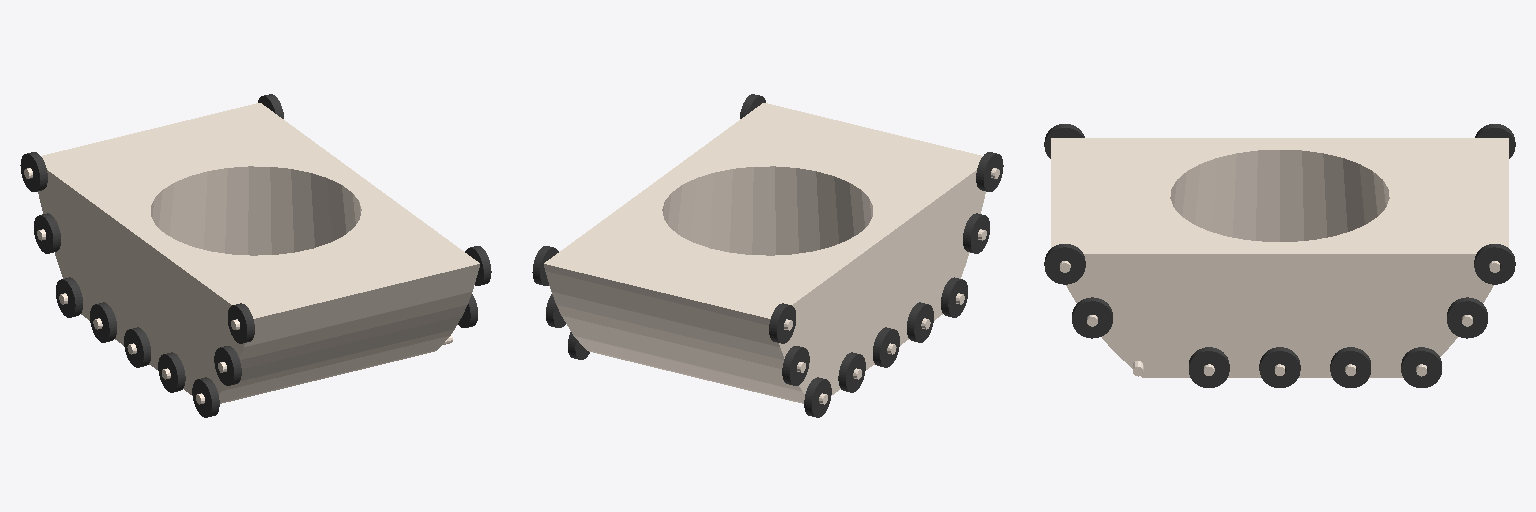
The robot description file, URDF, robot "taperon":
<?xml version="1.0" ?>
<!-- =================================================================================== -->
<!-- |    This document was autogenerated by xacro from [local-path]/taperon_ws/src/taperon_description/urdf/taperon.urdf.xacro | -->
<!-- |    EDITING THIS FILE BY HAND IS NOT RECOMMENDED                                 | -->
<!-- =================================================================================== -->
<!-- This URDF was automatically created by SolidWorks to URDF Exporter! Originally created by [author] ([email redacted]) 
     Commit Version: 1.6.0-4-g7f85cfe  Build Version: 1.6.7995.38578
     For more information, please see http://wiki.ros.org/sw_urdf_exporter -->
<robot name="taperon">
  <link name="base_link">
    <inertial>
      <origin rpy="0 0 0" xyz="0.0708427730604094 0.0120069913603685 -4.39514124916511E-18"/>
      <mass value="6.0"/>
      <inertia ixx="1.0971824669988" ixy="-6.72641588721367E-17" ixz="4.98158605125975E-17" iyy="1.45930594172483" iyz="-5.0258052230781E-16" izz="0.510073622144381"/>
    </inertial>
    <visual>
      <origin rpy="0 0 0" xyz="0 0 0"/>
      <geometry>
        <mesh filename="package://taperon_description/urdf/meshes/base_link.STL"/>
      </geometry>
      <material name="">
        <color rgba="1 0.949019607843137 0.898039215686275 1"/>
      </material>
    </visual>
    <collision>
      <origin rpy="0 0 0" xyz="0 0 0"/>
      <geometry>
        <mesh filename="package://taperon_description/urdf/meshes/base_link.STL"/>
      </geometry>
    </collision>
  </link>
  <link name="l1">
    <inertial>
      <origin rpy="0 0 0" xyz="-1.38777878078145E-16 -4.16333634234434E-17 -0.00499999999999998"/>
      <mass value="0.0145769899126567"/>
      <inertia ixx="2.12034465771185E-06" ixy="3.30872245021211E-24" ixz="1.61165209109768E-22" iyy="2.12034465771185E-06" iyz="5.2272633464336E-21" izz="3.99773948354609E-06"/>
    </inertial>
    <visual>
      <origin rpy="0 0 0" xyz="0 0 0"/>
      <geometry>
        <mesh filename="package://taperon_description/urdf/meshes/l1.STL"/>
      </geometry>
      <material name="">
        <color rgba="0.298039215686275 0.298039215686275 0.298039215686275 1"/>
      </material>
    </visual>
    <collision>
      <origin rpy="0 0 0" xyz="0 0 0"/>
      <geometry>
        <mesh filename="package://taperon_description/urdf/meshes/l1.STL"/>
      </geometry>
    </collision>
  </link>
  <joint name="jl1" type="continuous">
    <origin rpy="1.5708 -0.010065 -1.5708" xyz="0.22084 -0.235 0.065"/>
    <parent link="base_link"/>
    <child link="l1"/>
    <axis xyz="0 0 1"/>
  </joint>
  <link name="l2">
    <inertial>
      <origin rpy="0 0 0" xyz="-1.11022302462516E-16 -2.08166817117217E-17 -0.00499999999999998"/>
      <mass value="0.0145769899126567"/>
      <inertia ixx="2.12034465771185E-06" ixy="-4.96308367531817E-24" ixz="1.54539600381525E-22" iyy="2.12034465771185E-06" iyz="5.22648558026031E-21" izz="3.99773948354609E-06"/>
    </inertial>
    <visual>
      <origin rpy="0 0 0" xyz="0 0 0"/>
      <geometry>
        <mesh filename="package://taperon_description/urdf/meshes/l2.STL"/>
      </geometry>
      <material name="">
        <color rgba="0.298039215686275 0.298039215686275 0.298039215686275 1"/>
      </material>
    </visual>
    <collision>
      <origin rpy="0 0 0" xyz="0 0 0"/>
      <geometry>
        <mesh filename="package://taperon_description/urdf/meshes/l2.STL"/>
      </geometry>
    </collision>
  </link>
  <joint name="jl2" type="continuous">
    <origin rpy="1.5708 -0.010065 -1.5708" xyz="0.22084 -0.205 0"/>
    <parent link="base_link"/>
    <child link="l2"/>
    <axis xyz="0 0 1"/>
  </joint>
  <link name="l3">
    <inertial>
      <origin rpy="0 0 0" xyz="-2.77555756156289E-17 0 -0.00499999999999998"/>
      <mass value="0.0145769899126567"/>
      <inertia ixx="2.12034465771185E-06" ixy="-3.30872245021211E-24" ixz="9.27803307014988E-23" iyy="2.12034465771185E-06" iyz="5.22755551092004E-21" izz="3.99773948354609E-06"/>
    </inertial>
    <visual>
      <origin rpy="0 0 0" xyz="0 0 0"/>
      <geometry>
        <mesh filename="package://taperon_description/urdf/meshes/l3.STL"/>
      </geometry>
      <material name="">
        <color rgba="0.298039215686275 0.298039215686275 0.298039215686275 1"/>
      </material>
    </visual>
    <collision>
      <origin rpy="0 0 0" xyz="0 0 0"/>
      <geometry>
        <mesh filename="package://taperon_description/urdf/meshes/l3.STL"/>
      </geometry>
    </collision>
  </link>
  <joint name="jl3" type="continuous">
    <origin rpy="1.5708 -0.010065 -1.5708" xyz="0.22084 -0.155 -0.06"/>
    <parent link="base_link"/>
    <child link="l3"/>
    <axis xyz="0 0 1"/>
  </joint>
  <link name="l4">
    <inertial>
      <origin rpy="0 0 0" xyz="-2.77555756156289E-17 0 -0.00499999999999998"/>
      <mass value="0.0145769899126567"/>
      <inertia ixx="2.12034465771185E-06" ixy="-3.30872245021211E-24" ixz="9.27803307014988E-23" iyy="2.12034465771185E-06" iyz="5.22755551092004E-21" izz="3.99773948354609E-06"/>
    </inertial>
    <visual>
      <origin rpy="0 0 0" xyz="0 0 0"/>
      <geometry>
        <mesh filename="package://taperon_description/urdf/meshes/l4.STL"/>
      </geometry>
      <material name="">
        <color rgba="0.298039215686275 0.298039215686275 0.298039215686275 1"/>
      </material>
    </visual>
    <collision>
      <origin rpy="0 0 0" xyz="0 0 0"/>
      <geometry>
        <mesh filename="package://taperon_description/urdf/meshes/l4.STL"/>
      </geometry>
    </collision>
  </link>
  <joint name="jl4" type="continuous">
    <origin rpy="1.5708 -0.010065 -1.5708" xyz="0.22084 -0.0775 -0.06"/>
    <parent link="base_link"/>
    <child link="l4"/>
    <axis xyz="0 0 1"/>
  </joint>
  <link name="l5">
    <inertial>
      <origin rpy="0 0 0" xyz="1.20346441145891E-17 -2.08166817117217E-17 -0.00499999999999998"/>
      <mass value="0.3"/>
      <inertia ixx="2.12034465771185E-06" ixy="-4.96308367531817E-24" ixz="-1.0195844475648E-22" iyy="2.12034465771185E-06" iyz="1.04202413175718E-20" izz="3.99773948354609E-06"/>
    </inertial>
    <visual>
      <origin rpy="0 0 0" xyz="0 0 0"/>
      <geometry>
        <mesh filename="package://taperon_description/urdf/meshes/l5.STL"/>
      </geometry>
      <material name="">
        <color rgba="0.298039215686275 0.298039215686275 0.298039215686275 1"/>
      </material>
    </visual>
    <collision>
      <origin rpy="0 0 0" xyz="0 0 0"/>
      <geometry>
        <mesh filename="package://taperon_description/urdf/meshes/l5.STL"/>
      </geometry>
    </collision>
  </link>
  <joint name="jl5" type="continuous">
    <origin rpy="1.5708 -0.010065 -1.5708" xyz="0.22084 0 -0.06"/>
    <parent link="base_link"/>
    <child link="l5"/>
    <axis xyz="0 0 1"/>
    <limit effort="50.0" velocity="20.0"/>
    <dynamics damping="0.1" friction="0.2"/>
  </joint>
  <link name="l6">
    <inertial>
      <origin rpy="0 0 0" xyz="0 -6.93889390390723E-18 -0.00499999999999998"/>
      <mass value="0.0145769899126567"/>
      <inertia ixx="2.12034465771185E-06" ixy="-3.30872245021211E-24" ixz="9.27803307014988E-23" iyy="2.12034465771185E-06" iyz="5.22755551092004E-21" izz="3.99773948354609E-06"/>
    </inertial>
    <visual>
      <origin rpy="0 0 0" xyz="0 0 0"/>
      <geometry>
        <mesh filename="package://taperon_description/urdf/meshes/l6.STL"/>
      </geometry>
      <material name="">
        <color rgba="0.298039215686275 0.298039215686275 0.298039215686275 1"/>
      </material>
    </visual>
    <collision>
      <origin rpy="0 0 0" xyz="0 0 0"/>
      <geometry>
        <mesh filename="package://taperon_description/urdf/meshes/l6.STL"/>
      </geometry>
    </collision>
  </link>
  <joint name="jl6" type="continuous">
    <origin rpy="1.5708 -0.010065 -1.5708" xyz="0.22084 0.0775 -0.06"/>
    <parent link="base_link"/>
    <child link="l6"/>
    <axis xyz="0 0 1"/>
  </joint>
  <link name="l7">
    <inertial>
      <origin rpy="0 0 0" xyz="2.77555756156289E-17 -1.38777878078145E-17 -0.00499999999999998"/>
      <mass value="0.0145769899126567"/>
      <inertia ixx="2.12034465771185E-06" ixy="0" ixz="9.27803307014988E-23" iyy="2.12034465771185E-06" iyz="5.22755551092004E-21" izz="3.99773948354609E-06"/>
    </inertial>
    <visual>
      <origin rpy="0 0 0" xyz="0 0 0"/>
      <geometry>
        <mesh filename="package://taperon_description/urdf/meshes/l7.STL"/>
      </geometry>
      <material name="">
        <color rgba="0.298039215686275 0.298039215686275 0.298039215686275 1"/>
      </material>
    </visual>
    <collision>
      <origin rpy="0 0 0" xyz="0 0 0"/>
      <geometry>
        <mesh filename="package://taperon_description/urdf/meshes/l7.STL"/>
      </geometry>
    </collision>
  </link>
  <joint name="jl7" type="continuous">
    <origin rpy="1.5708 -0.010065 -1.5708" xyz="0.22084 0.155 -0.06"/>
    <parent link="base_link"/>
    <child link="l7"/>
    <axis xyz="0 0 1"/>
  </joint>
  <link name="l8">
    <inertial>
      <origin rpy="0 0 0" xyz="0 -9.10729824887824E-18 -0.00499999999999998"/>
      <mass value="0.0145769899126567"/>
      <inertia ixx="2.12034465771185E-06" ixy="-4.96308367531817E-24" ixz="1.54539947280464E-22" iyy="2.12034465771185E-06" iyz="5.22652004437335E-21" izz="3.99773948354609E-06"/>
    </inertial>
    <visual>
      <origin rpy="0 0 0" xyz="0 0 0"/>
      <geometry>
        <mesh filename="package://taperon_description/urdf/meshes/l8.STL"/>
      </geometry>
      <material name="">
        <color rgba="0.298039215686275 0.298039215686275 0.298039215686275 1"/>
      </material>
    </visual>
    <collision>
      <origin rpy="0 0 0" xyz="0 0 0"/>
      <geometry>
        <mesh filename="package://taperon_description/urdf/meshes/l8.STL"/>
      </geometry>
    </collision>
  </link>
  <joint name="jl8" type="continuous">
    <origin rpy="1.5708 -0.010065 -1.5708" xyz="0.22084 0.205 0"/>
    <parent link="base_link"/>
    <child link="l8"/>
    <axis xyz="0 0 1"/>
  </joint>
  <link name="l9">
    <inertial>
      <origin rpy="0 0 0" xyz="0 1.38777878078145E-17 -0.00499999999999998"/>
      <mass value="0.0145769899126567"/>
      <inertia ixx="2.12034465771185E-06" ixy="6.61744490042422E-24" ixz="1.61165456553151E-22" iyy="2.12034465771185E-06" iyz="5.22769440213833E-21" izz="3.99773948354609E-06"/>
    </inertial>
    <visual>
      <origin rpy="0 0 0" xyz="0 0 0"/>
      <geometry>
        <mesh filename="package://taperon_description/urdf/meshes/l9.STL"/>
      </geometry>
      <material name="">
        <color rgba="0.298039215686275 0.298039215686275 0.298039215686275 1"/>
      </material>
    </visual>
    <collision>
      <origin rpy="0 0 0" xyz="0 0 0"/>
      <geometry>
        <mesh filename="package://taperon_description/urdf/meshes/l9.STL"/>
      </geometry>
    </collision>
  </link>
  <joint name="jl9" type="continuous">
    <origin rpy="1.5708 -0.010065 -1.5708" xyz="0.22084 0.235 0.065"/>
    <parent link="base_link"/>
    <child link="l9"/>
    <axis xyz="0 0 1"/>
  </joint>
  <link name="r1">
    <inertial>
      <origin rpy="0 0 0" xyz="-1.11022302462516E-16 2.77555756156289E-17 0.00499999999999999"/>
      <mass value="0.0145769899126567"/>
      <inertia ixx="2.12034465771185E-06" ixy="-1.65436122510606E-24" ixz="-1.81398114143543E-22" iyy="2.12034465771185E-06" iyz="2.42777647316228E-23" izz="3.99773948354609E-06"/>
    </inertial>
    <visual>
      <origin rpy="0 0 0" xyz="0 0 0"/>
      <geometry>
        <mesh filename="package://taperon_description/urdf/meshes/r1.STL"/>
      </geometry>
      <material name="">
        <color rgba="0.298039215686275 0.298039215686275 0.298039215686275 1"/>
      </material>
    </visual>
    <collision>
      <origin rpy="0 0 0" xyz="0 0 0"/>
      <geometry>
        <mesh filename="package://taperon_description/urdf/meshes/r1.STL"/>
      </geometry>
    </collision>
  </link>
  <joint name="jr1" type="continuous">
    <origin rpy="1.5708 -0.010065 -1.5708" xyz="-0.079157 -0.235 0.065"/>
    <parent link="base_link"/>
    <child link="r1"/>
    <axis xyz="0 0 1"/>
  </joint>
  <link name="r2">
    <inertial>
      <origin rpy="0 0 0" xyz="2.77555756156289E-17 -1.86482773667507E-17 0.005"/>
      <mass value="0.0145769899126567"/>
      <inertia ixx="2.12034465771185E-06" ixy="1.65436122510606E-24" ixz="2.20225950264768E-22" iyy="2.12034465771185E-06" iyz="-5.19481120469962E-21" izz="3.99773948354609E-06"/>
    </inertial>
    <visual>
      <origin rpy="0 0 0" xyz="0 0 0"/>
      <geometry>
        <mesh filename="package://taperon_description/urdf/meshes/r2.STL"/>
      </geometry>
      <material name="">
        <color rgba="0.298039215686275 0.298039215686275 0.298039215686275 1"/>
      </material>
    </visual>
    <collision>
      <origin rpy="0 0 0" xyz="0 0 0"/>
      <geometry>
        <mesh filename="package://taperon_description/urdf/meshes/r2.STL"/>
      </geometry>
    </collision>
  </link>
  <joint name="jr2" type="continuous">
    <origin rpy="1.5708 -0.010065 -1.5708" xyz="-0.079157 -0.205 0"/>
    <parent link="base_link"/>
    <child link="r2"/>
    <axis xyz="0 0 1"/>
  </joint>
  <link name="r3">
    <inertial>
      <origin rpy="0 0 0" xyz="-2.77555756156289E-17 0 0.00500000000000002"/>
      <mass value="0.0145769899126567"/>
      <inertia ixx="2.12034465771185E-06" ixy="-3.97046694025453E-23" ixz="1.63609480293604E-22" iyy="2.12034465771185E-06" iyz="2.07054762342682E-23" izz="3.99773948354609E-06"/>
    </inertial>
    <visual>
      <origin rpy="0 0 0" xyz="0 0 0"/>
      <geometry>
        <mesh filename="package://taperon_description/urdf/meshes/r3.STL"/>
      </geometry>
      <material name="">
        <color rgba="0.298039215686275 0.298039215686275 0.298039215686275 1"/>
      </material>
    </visual>
    <collision>
      <origin rpy="0 0 0" xyz="0 0 0"/>
      <geometry>
        <mesh filename="package://taperon_description/urdf/meshes/r3.STL"/>
      </geometry>
    </collision>
  </link>
  <joint name="jr3" type="continuous">
    <origin rpy="1.5708 0.051019 -1.5708" xyz="-0.079157 -0.155 -0.06"/>
    <parent link="base_link"/>
    <child link="r3"/>
    <axis xyz="0 0 1"/>
  </joint>
  <link name="r4">
    <inertial>
      <origin rpy="0 0 0" xyz="2.77555756156289E-17 -1.38777878078145E-17 -0.005"/>
      <mass value="0.0145769899126567"/>
      <inertia ixx="2.12034465771185E-06" ixy="-1.05879118406788E-22" ixz="-5.27975819480618E-24" iyy="2.12034465771185E-06" iyz="-2.56602770116205E-22" izz="3.99773948354609E-06"/>
    </inertial>
    <visual>
      <origin rpy="0 0 0" xyz="0 0 0"/>
      <geometry>
        <mesh filename="package://taperon_description/urdf/meshes/r4.STL"/>
      </geometry>
      <material name="">
        <color rgba="0.298039215686275 0.298039215686275 0.298039215686275 1"/>
      </material>
    </visual>
    <collision>
      <origin rpy="0 0 0" xyz="0 0 0"/>
      <geometry>
        <mesh filename="package://taperon_description/urdf/meshes/r4.STL"/>
      </geometry>
    </collision>
  </link>
  <joint name="jr4" type="continuous">
    <origin rpy="1.5708 -1.1689 1.5708" xyz="-0.079157 -0.0775 -0.06"/>
    <parent link="base_link"/>
    <child link="r4"/>
    <axis xyz="0 0 1"/>
  </joint>
  <link name="r5">
    <inertial>
      <origin rpy="0 0 0" xyz="1.60461921527855E-17 1.38777878078145E-17 0.00500000000000002"/>
      <mass value="0.3"/>
      <inertia ixx="2.12034465771185E-06" ixy="-3.30872245021211E-23" ixz="-1.70401532106193E-22" iyy="2.12034465771185E-06" iyz="2.62857502617788E-21" izz="3.99773948354609E-06"/>
    </inertial>
    <visual>
      <origin rpy="0 0 0" xyz="0 0 0"/>
      <geometry>
        <mesh filename="package://taperon_description/urdf/meshes/r5.STL"/>
      </geometry>
      <material name="">
        <color rgba="0.298039215686275 0.298039215686275 0.298039215686275 1"/>
      </material>
    </visual>
    <collision>
      <origin rpy="0 0 0" xyz="0 0 0"/>
      <geometry>
        <mesh filename="package://taperon_description/urdf/meshes/r5.STL"/>
      </geometry>
    </collision>
  </link>
  <joint name="jr5" type="continuous">
    <origin rpy="1.5708 -0.052725 -1.5708" xyz="-0.079157 0 -0.06"/>
    <parent link="base_link"/>
    <child link="r5"/>
    <axis xyz="0 0 1"/>
    <limit effort="50.0" velocity="20.0"/>
    <dynamics damping="0.1" friction="0.2"/>
  </joint>
  <link name="r6">
    <inertial>
      <origin rpy="0 0 0" xyz="3.46944695195361E-18 2.77555756156289E-17 -0.00500000000000002"/>
      <mass value="0.0145769899126567"/>
      <inertia ixx="2.12034465771185E-06" ixy="-1.05879118406788E-22" ixz="-5.27975819480619E-24" iyy="2.12034465771185E-06" iyz="-2.56602770116205E-22" izz="3.99773948354609E-06"/>
    </inertial>
    <visual>
      <origin rpy="0 0 0" xyz="0 0 0"/>
      <geometry>
        <mesh filename="package://taperon_description/urdf/meshes/r6.STL"/>
      </geometry>
      <material name="">
        <color rgba="0.298039215686275 0.298039215686275 0.298039215686275 1"/>
      </material>
    </visual>
    <collision>
      <origin rpy="0 0 0" xyz="0 0 0"/>
      <geometry>
        <mesh filename="package://taperon_description/urdf/meshes/r6.STL"/>
      </geometry>
    </collision>
  </link>
  <joint name="jr6" type="continuous">
    <origin rpy="1.5708 -1.1689 1.5708" xyz="-0.079157 0.0775 -0.06"/>
    <parent link="base_link"/>
    <child link="r6"/>
    <axis xyz="0 0 1"/>
  </joint>
  <link name="r7">
    <inertial>
      <origin rpy="0 0 0" xyz="0 0 0.005"/>
      <mass value="0.0145769899126567"/>
      <inertia ixx="2.12034465771185E-06" ixy="0" ixz="2.97439265988952E-22" iyy="2.12034465771185E-06" iyz="-5.19422692585751E-21" izz="3.99773948354609E-06"/>
    </inertial>
    <visual>
      <origin rpy="0 0 0" xyz="0 0 0"/>
      <geometry>
        <mesh filename="package://taperon_description/urdf/meshes/r7.STL"/>
      </geometry>
      <material name="">
        <color rgba="0.298039215686275 0.298039215686275 0.298039215686275 1"/>
      </material>
    </visual>
    <collision>
      <origin rpy="0 0 0" xyz="0 0 0"/>
      <geometry>
        <mesh filename="package://taperon_description/urdf/meshes/r7.STL"/>
      </geometry>
    </collision>
  </link>
  <joint name="jr7" type="continuous">
    <origin rpy="1.5708 -0.010065 -1.5708" xyz="-0.079157 0.155 -0.06"/>
    <parent link="base_link"/>
    <child link="r7"/>
    <axis xyz="0 0 1"/>
  </joint>
  <link name="r8">
    <inertial>
      <origin rpy="0 0 0" xyz="-2.77555756156289E-17 -1.38777878078145E-17 0.005"/>
      <mass value="0.0145769899126567"/>
      <inertia ixx="2.12034465771185E-06" ixy="-1.05879118406788E-22" ixz="2.07423726463236E-22" iyy="2.12034465771185E-06" iyz="4.67363283241889E-24" izz="3.99773948354608E-06"/>
    </inertial>
    <visual>
      <origin rpy="0 0 0" xyz="0 0 0"/>
      <geometry>
        <mesh filename="package://taperon_description/urdf/meshes/r8.STL"/>
      </geometry>
      <material name="">
        <color rgba="0.298039215686275 0.298039215686275 0.298039215686275 1"/>
      </material>
    </visual>
    <collision>
      <origin rpy="0 0 0" xyz="0 0 0"/>
      <geometry>
        <mesh filename="package://taperon_description/urdf/meshes/r8.STL"/>
      </geometry>
    </collision>
  </link>
  <joint name="jr8" type="continuous">
    <origin rpy="1.5708 -0.31004 -1.5708" xyz="-0.079157 0.205 0"/>
    <parent link="base_link"/>
    <child link="r8"/>
    <axis xyz="0 0 1"/>
  </joint>
  <link name="r9">
    <inertial>
      <origin rpy="0 0 0" xyz="-8.32667268468867E-17 -2.77555756156289E-17 0.005"/>
      <mass value="0.0145769899126567"/>
      <inertia ixx="2.12034465771185E-06" ixy="3.30872245021211E-24" ixz="2.95236164496244E-22" iyy="2.12034465771185E-06" iyz="-5.19394624347761E-21" izz="3.99773948354609E-06"/>
    </inertial>
    <visual>
      <origin rpy="0 0 0" xyz="0 0 0"/>
      <geometry>
        <mesh filename="package://taperon_description/urdf/meshes/r9.STL"/>
      </geometry>
      <material name="">
        <color rgba="0.298039215686275 0.298039215686275 0.298039215686275 1"/>
      </material>
    </visual>
    <collision>
      <origin rpy="0 0 0" xyz="0 0 0"/>
      <geometry>
        <mesh filename="package://taperon_description/urdf/meshes/r9.STL"/>
      </geometry>
    </collision>
  </link>
  <joint name="jr9" type="continuous">
    <origin rpy="1.5708 -0.010065 -1.5708" xyz="-0.079157 0.235 0.065"/>
    <parent link="base_link"/>
    <child link="r9"/>
    <axis xyz="0 0 1"/>
  </joint>
  <!-- ros2_control: ONLY jl5 (left) and jr5 (right) are driven -->
  <ros2_control name="taperon_control" type="system">
    <hardware>
      <plugin>gz_ros2_control/GazeboSimSystem</plugin>
    </hardware>
    <joint name="jl5">
      <command_interface name="velocity"/>
      <state_interface name="velocity"/>
      <state_interface name="position"/>
    </joint>
    <joint name="jr5">
      <command_interface name="velocity"/>
      <state_interface name="velocity"/>
      <state_interface name="position"/>
    </joint>
  </ros2_control>
  <!-- Gazebo plugin that creates the ros2_control controller_manager in Gazebo -->
  <gazebo>
    <plugin filename="ign_ros2_control-system" name="ign_ros2_control::IgnitionROS2ControlPlugin">
      <robot_param>robot_description</robot_param>
      <robot_param_node>taperon/robot_state_publisher</robot_param_node>
      <parameters>[local-path]/taperon_ws/install/taperon_bringup/share/taperon_bringup/config/diff_drive.yaml</parameters>
      <controller_manager_name>controller_manager</controller_manager_name>
    </plugin>
  </gazebo>
</robot>

--- Render facts (derived) ---
3 views of the same robot in one strip: view 1: azimuth 30°, elevation 25°; view 2: azimuth 150°, elevation 25°; view 3: azimuth 270°, elevation 25° (orthographic).
Robot: taperon — 19 links, 18 joints (18 continuous); root link base_link; default pose: every joint at zero.
Visible links, largest first — view 1: base_link, r3, r4, r1, r2, r8, r7, r9, r6, r5, l1; view 2: base_link, r7, r6, r2, r8, r1, r9, r3, r4, r5, l9; view 3: base_link, l5, l4, l7, l9, l1, l2, l6, l8, r9, r1.
Boxes of the visible links, x1,y1,x2,y2 form: base_link: (24, 103, 479, 404); r3: (192, 377, 219, 417); r4: (158, 352, 185, 392); r1: (228, 303, 254, 343); r2: (214, 346, 241, 385); r8: (34, 213, 60, 253); r7: (56, 277, 82, 317); r9: (20, 152, 47, 191); r6: (90, 302, 116, 342); r5: (124, 327, 150, 367); l1: (465, 246, 491, 285); base_link: (544, 103, 999, 404); r7: (804, 377, 831, 417); r6: (838, 352, 865, 392); r2: (963, 213, 989, 253); r8: (782, 346, 809, 385); r1: (976, 152, 1003, 191); r9: (769, 303, 795, 343); r3: (941, 277, 967, 317); r4: (907, 302, 933, 342); r5: (873, 327, 899, 367); l9: (532, 246, 558, 285); base_link: (1051, 138, 1508, 377); l5: (1259, 347, 1300, 387); l4: (1189, 347, 1229, 387); l7: (1401, 347, 1441, 387); l9: (1474, 244, 1515, 284); l1: (1044, 244, 1085, 284); l2: (1072, 297, 1112, 338); l6: (1330, 347, 1370, 387); l8: (1447, 297, 1487, 338); r9: (1475, 124, 1515, 158); r1: (1044, 124, 1084, 158).
Size in the robot's own frame: 0.33 by 0.515 by 0.17 metres.
Meshes: 19 distinct files referenced, 18 mesh visuals loaded (18 binary STL); not drawn: 1 (reference not matched to a file when rendering).
